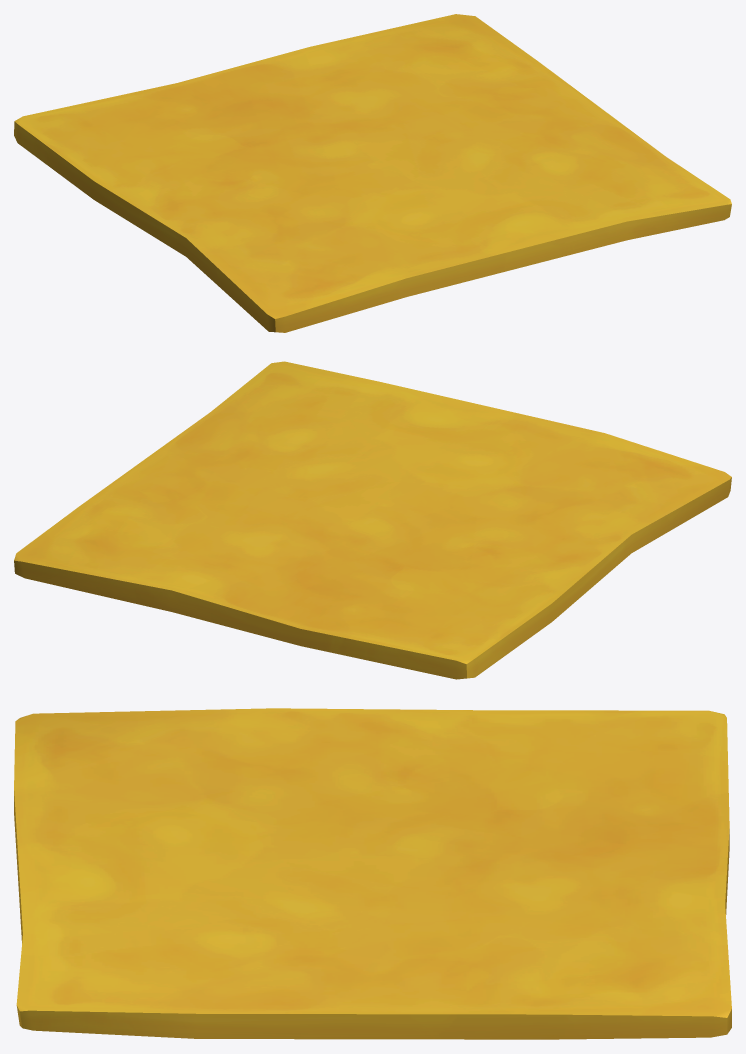
The model's file is SM_CheeseSliceMelting.glb.
The picture shows the model from 3 angles, top to bottom: view 1: azimuth 30°, elevation 25°; view 2: azimuth 150°, elevation 25°; view 3: azimuth 270°, elevation 25°; orthographic projection. The views are drawn at different scales.
Parts seen in each view (by area): view 1: SM_CheeseSliceMelting; view 2: SM_CheeseSliceMelting; view 3: SM_CheeseSliceMelting.
Boxes of the visible parts, <box> form: SM_CheeseSliceMelting: <box>14,14,731,332</box>; SM_CheeseSliceMelting: <box>14,361,731,679</box>; SM_CheeseSliceMelting: <box>14,708,731,1039</box>.
Size of the model in its own units: 0.1801 by 0.0103 by 0.1812.
Materials: 1 (1 with a texture image).
